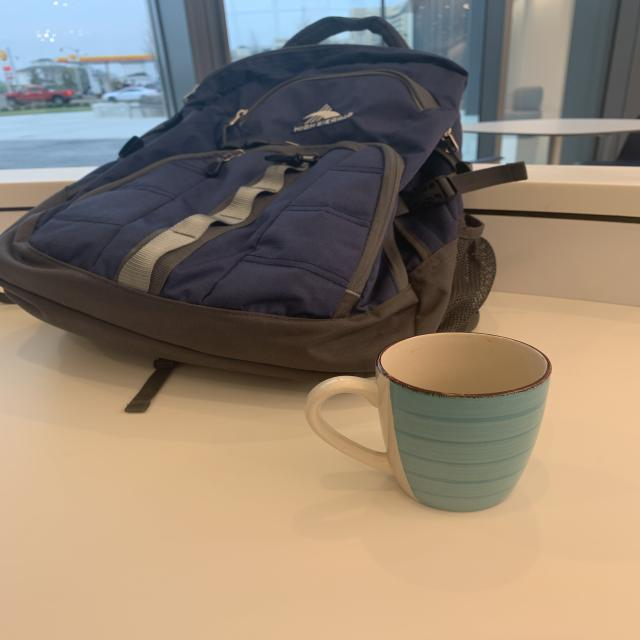Cup: (302, 327, 556, 518)
